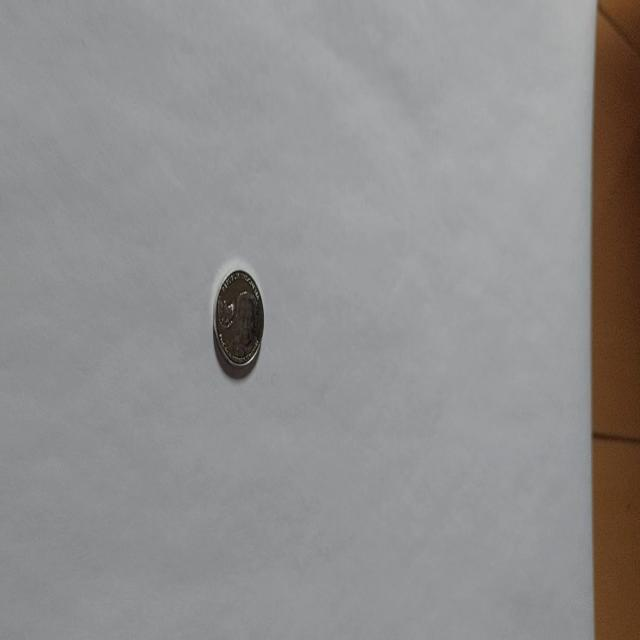seratus rupiah: (212, 266, 264, 376)
